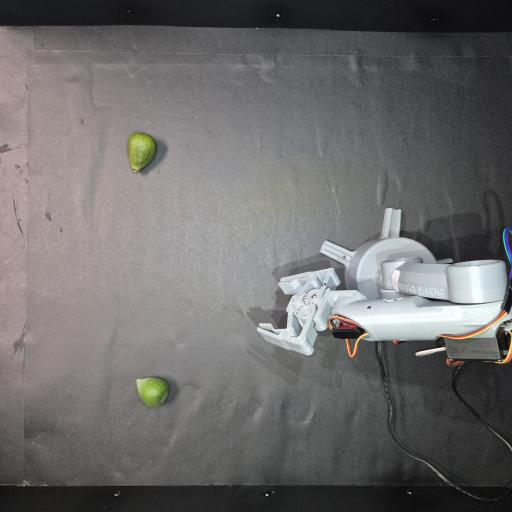higo: (127, 132, 156, 172), (137, 377, 169, 406)
